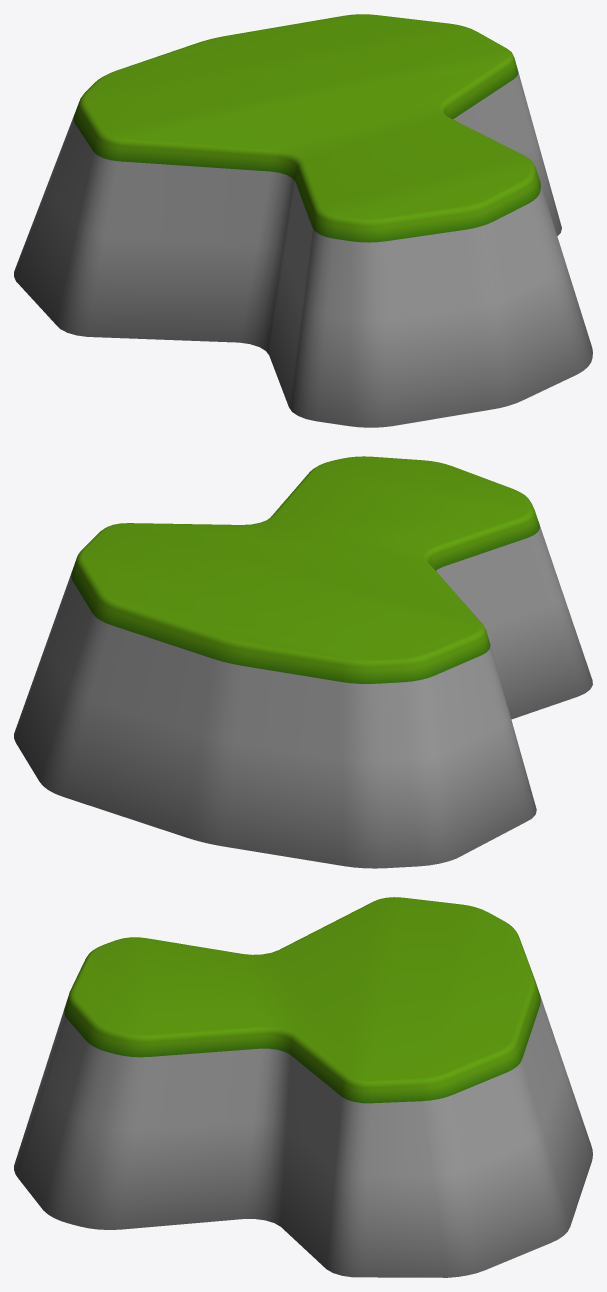
File: Mountain05.fbx
3 views of the same model, one above another, from view 1: azimuth 30°, elevation 25°; view 2: azimuth 150°, elevation 25°; view 3: azimuth 270°, elevation 25° (orthographic). The views are drawn at different scales.
Parts seen in each view (by area): view 1: LOD0; view 2: LOD0; view 3: LOD0.
Boxes of the visible parts, <box> form: LOD0: <box>14,14,592,427</box>; LOD0: <box>14,456,592,868</box>; LOD0: <box>14,897,592,1277</box>.
Size of what is drawn, in the model's own units: 1057 by 1127 by 375.
